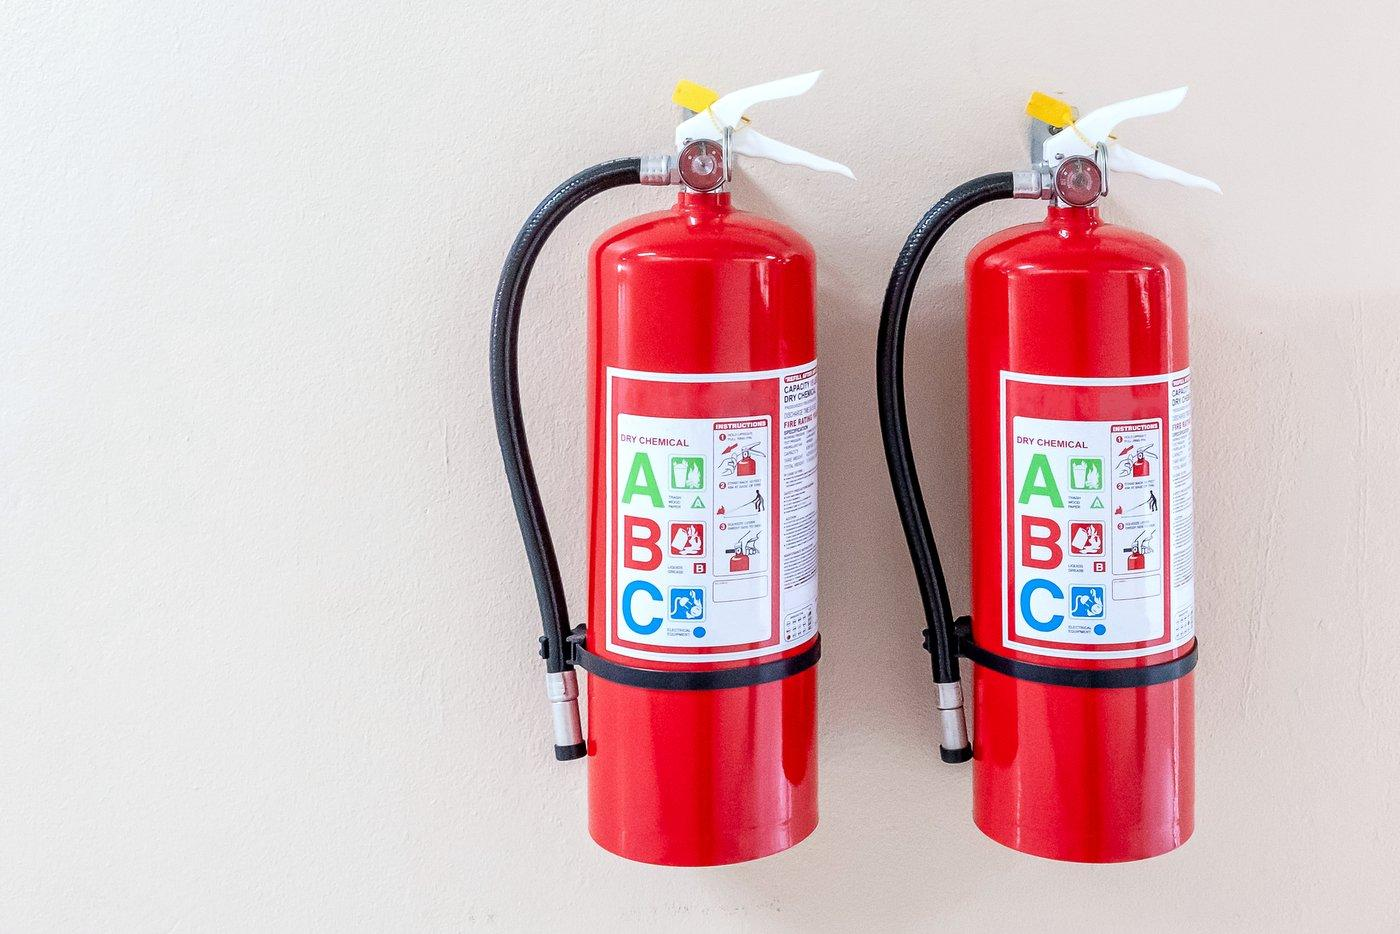wall-mounted: (410, 57, 853, 898), (870, 74, 1276, 886)
